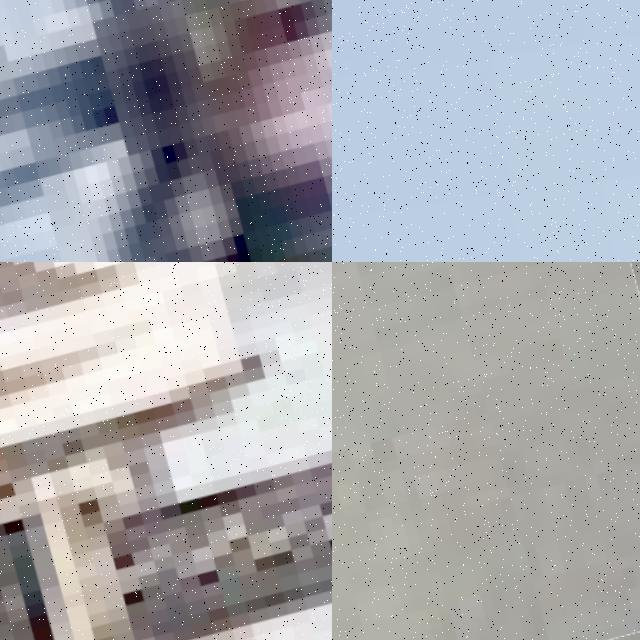drone: (0, 262, 332, 640), (332, 262, 640, 640), (0, 0, 332, 262)
